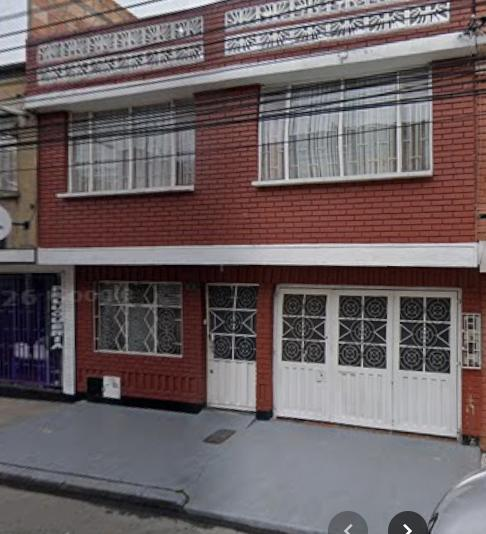casa: (26, 0, 485, 448)
